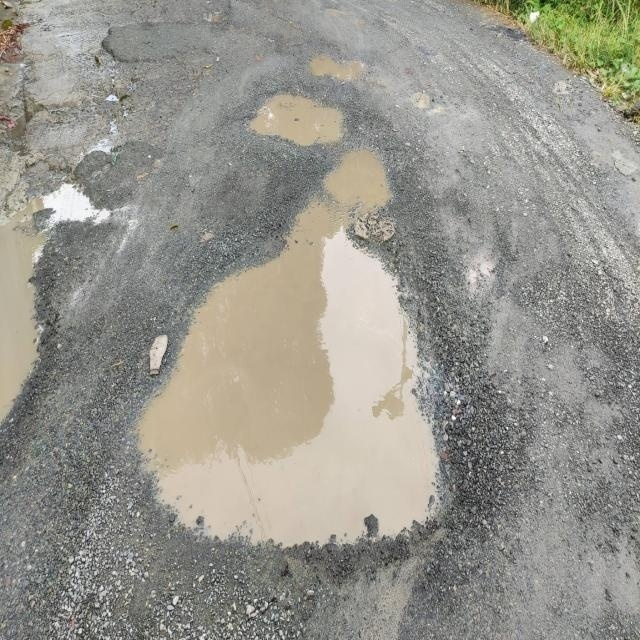pothole: (152, 264, 486, 582), (251, 94, 345, 154), (306, 42, 374, 100)
